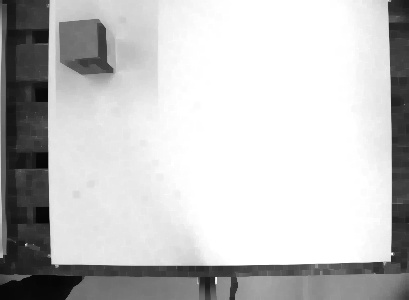b4: (57, 18, 119, 78)
